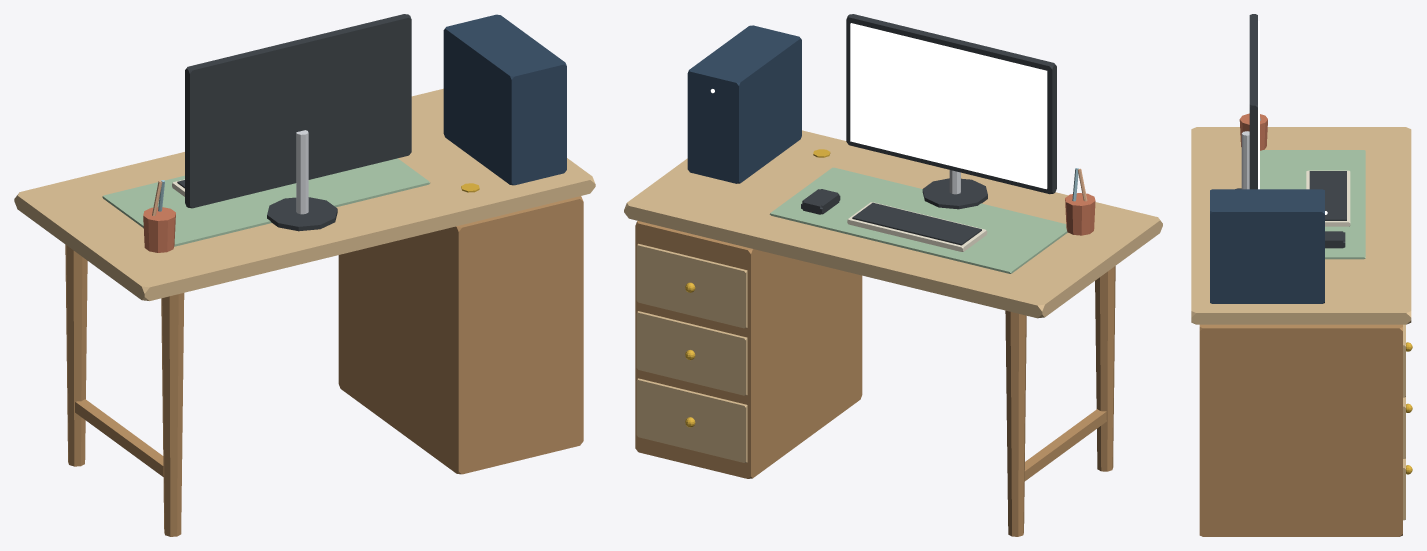
Rendered from Furniture_ComputerDesk.glb.
3 renders of one model, left to right at view 1: azimuth 30°, elevation 25°; view 2: azimuth 150°, elevation 25°; view 3: azimuth 270°, elevation 25°, orthographic. The views are drawn at different scales.
Parts seen in each view (by area): view 1: Furniture_ComputerDesk; view 2: Furniture_ComputerDesk; view 3: Furniture_ComputerDesk.
Boxes of the visible parts, x1,y1,x2,y2 form: Furniture_ComputerDesk: (14, 14, 595, 536); Furniture_ComputerDesk: (624, 14, 1162, 536); Furniture_ComputerDesk: (1191, 14, 1412, 536).
Size of the model in its own units: 1.3 by 1.22 by 0.654.
